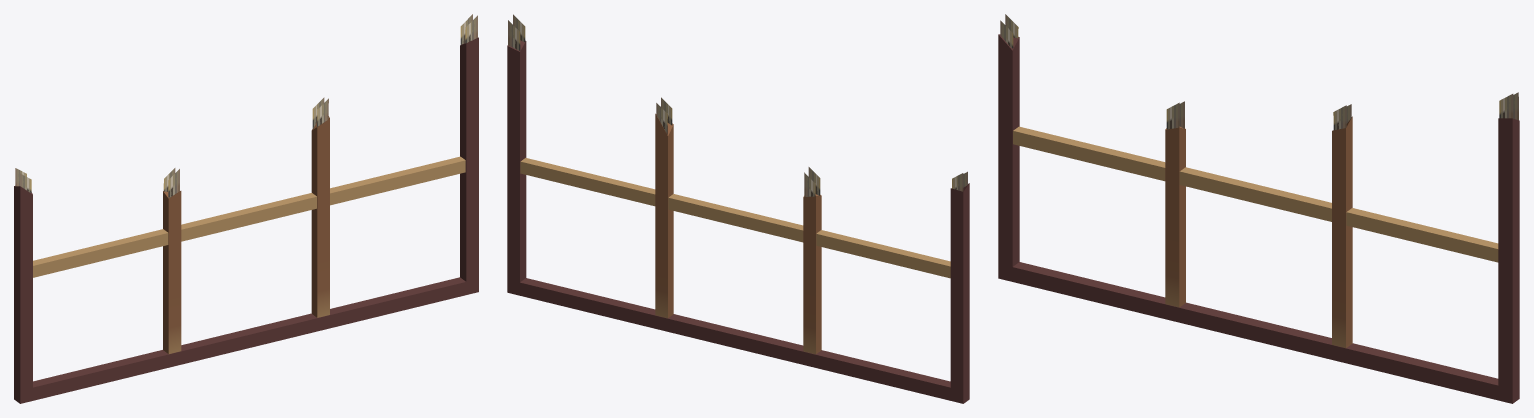
File: DBK_WinBig_Wood_Tile.fbx
3 views of the same model, side by side, from view 1: azimuth 30°, elevation 25°; view 2: azimuth 150°, elevation 25°; view 3: azimuth 330°, elevation 25° (orthographic). The views are drawn at different scales.
Parts seen in each view (by area): view 1: DBK_WinBig_Wood_Tile; view 2: DBK_WinBig_Wood_Tile; view 3: DBK_WinBig_Wood_Tile.
Part boxes in pixels (x1,y1,x2,y2): DBK_WinBig_Wood_Tile: (14,14,478,403); DBK_WinBig_Wood_Tile: (507,14,969,403); DBK_WinBig_Wood_Tile: (998,14,1519,403).
Size of the model in its own units: 200 by 115 by 4.75.
